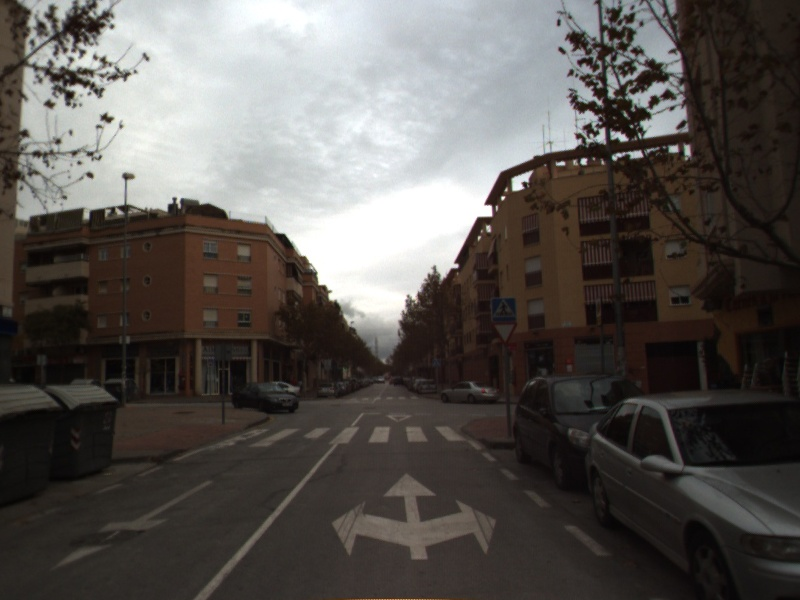STRAIGHT_LEFT_RIGHT: (329, 471, 499, 562)
